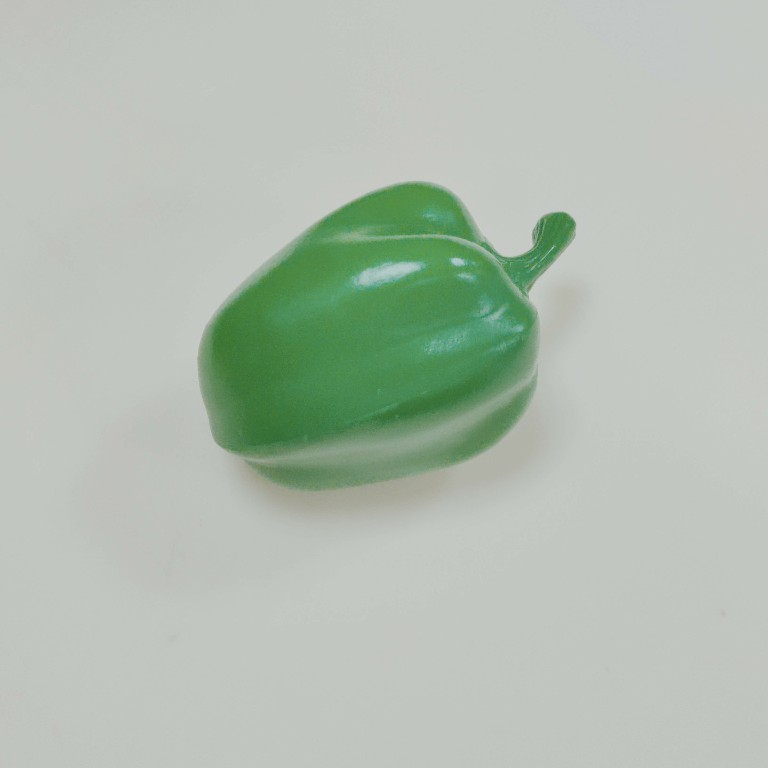fruit_pepper: (192, 175, 582, 494)
